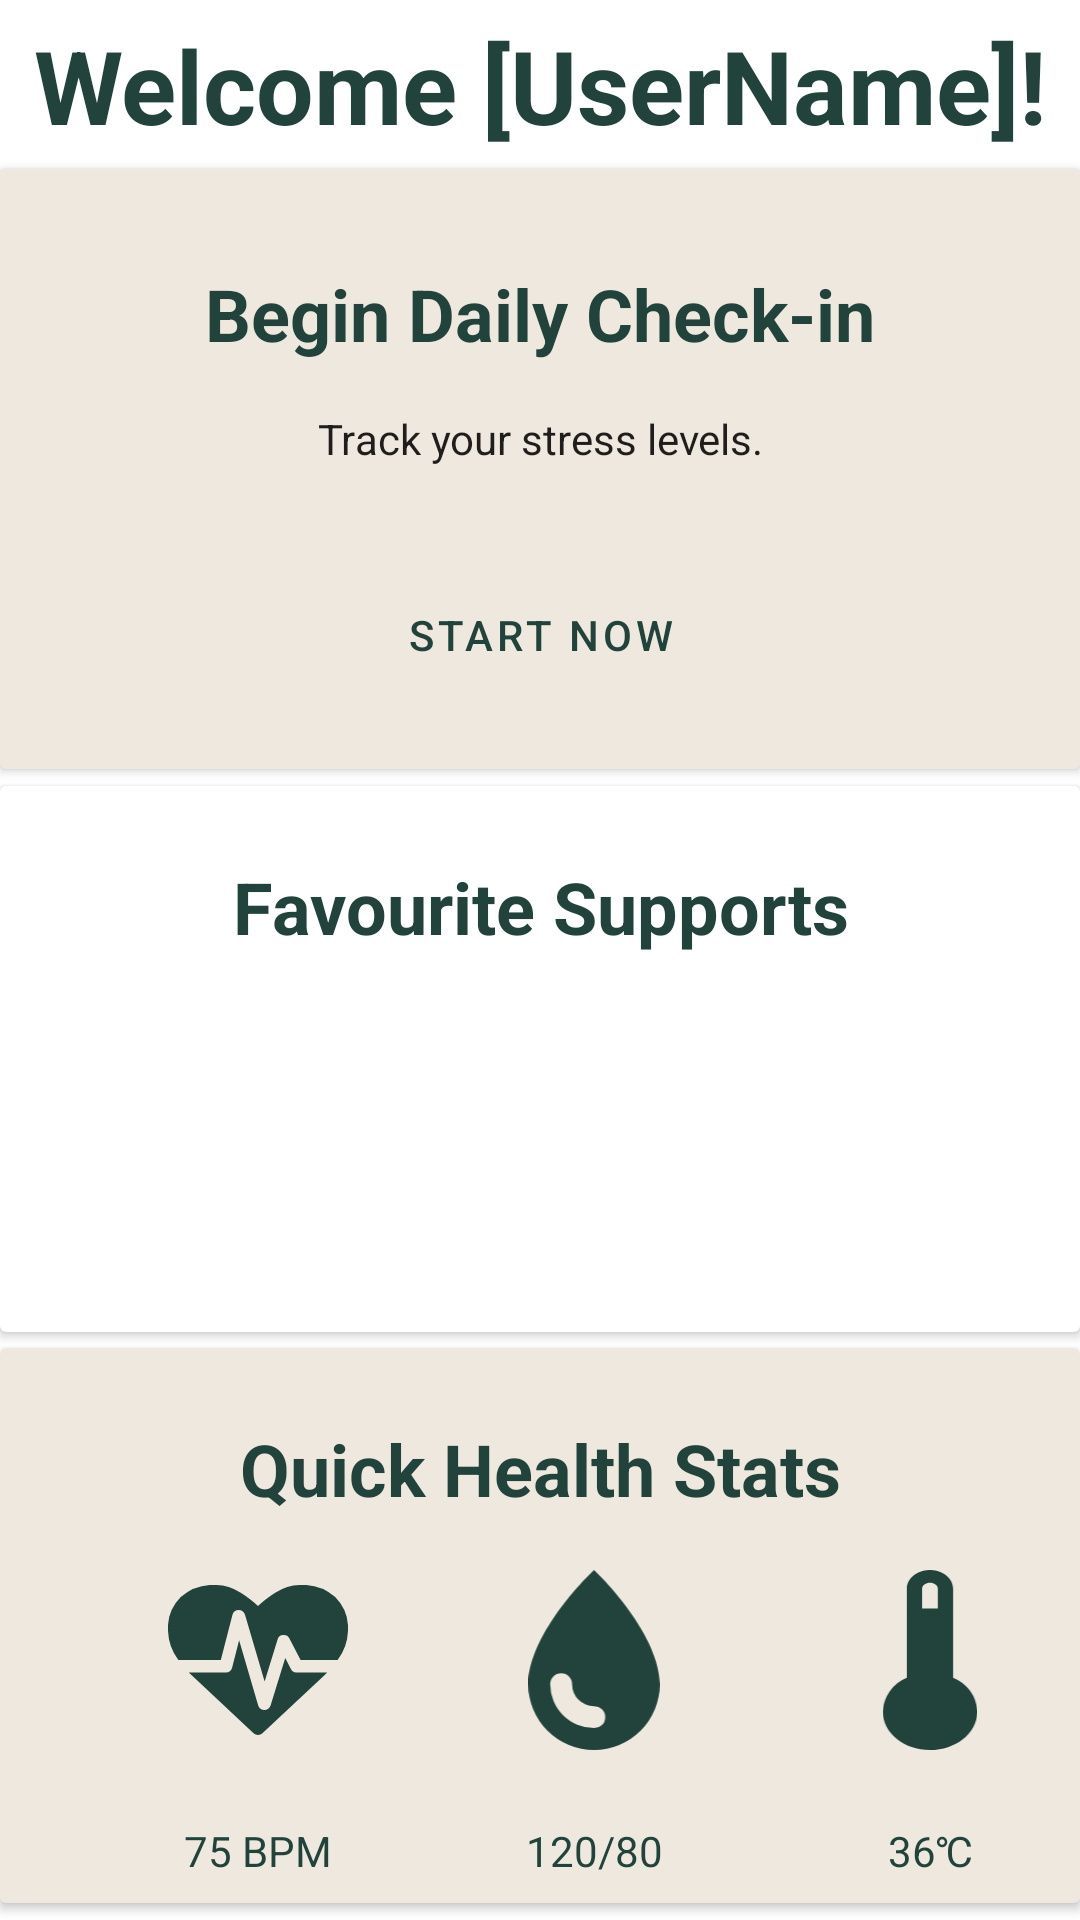

Icon bounding boxes for this 1080px x 1920px phone screenshot, format (x1, y1, x2, y2):
Blood Pressure Icon: (528, 1570, 660, 1750)
Heart Rate Icon: (168, 1585, 348, 1735)
Temperature Icon: (883, 1570, 977, 1750)
